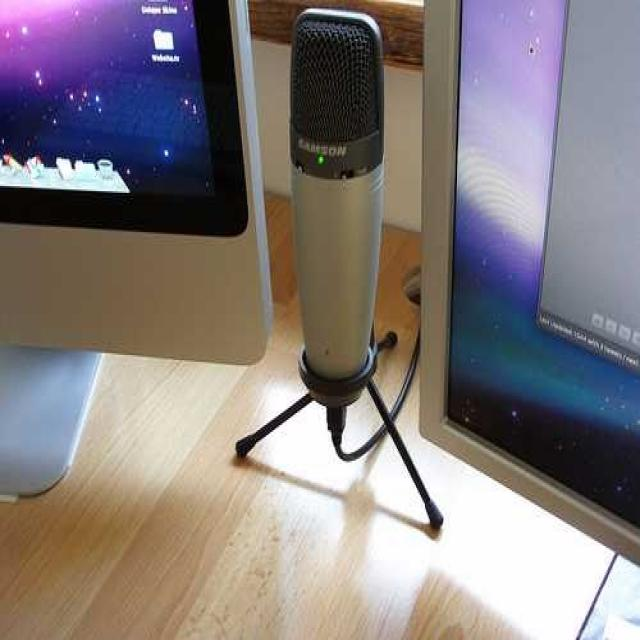microphone: (290, 10, 385, 389)
